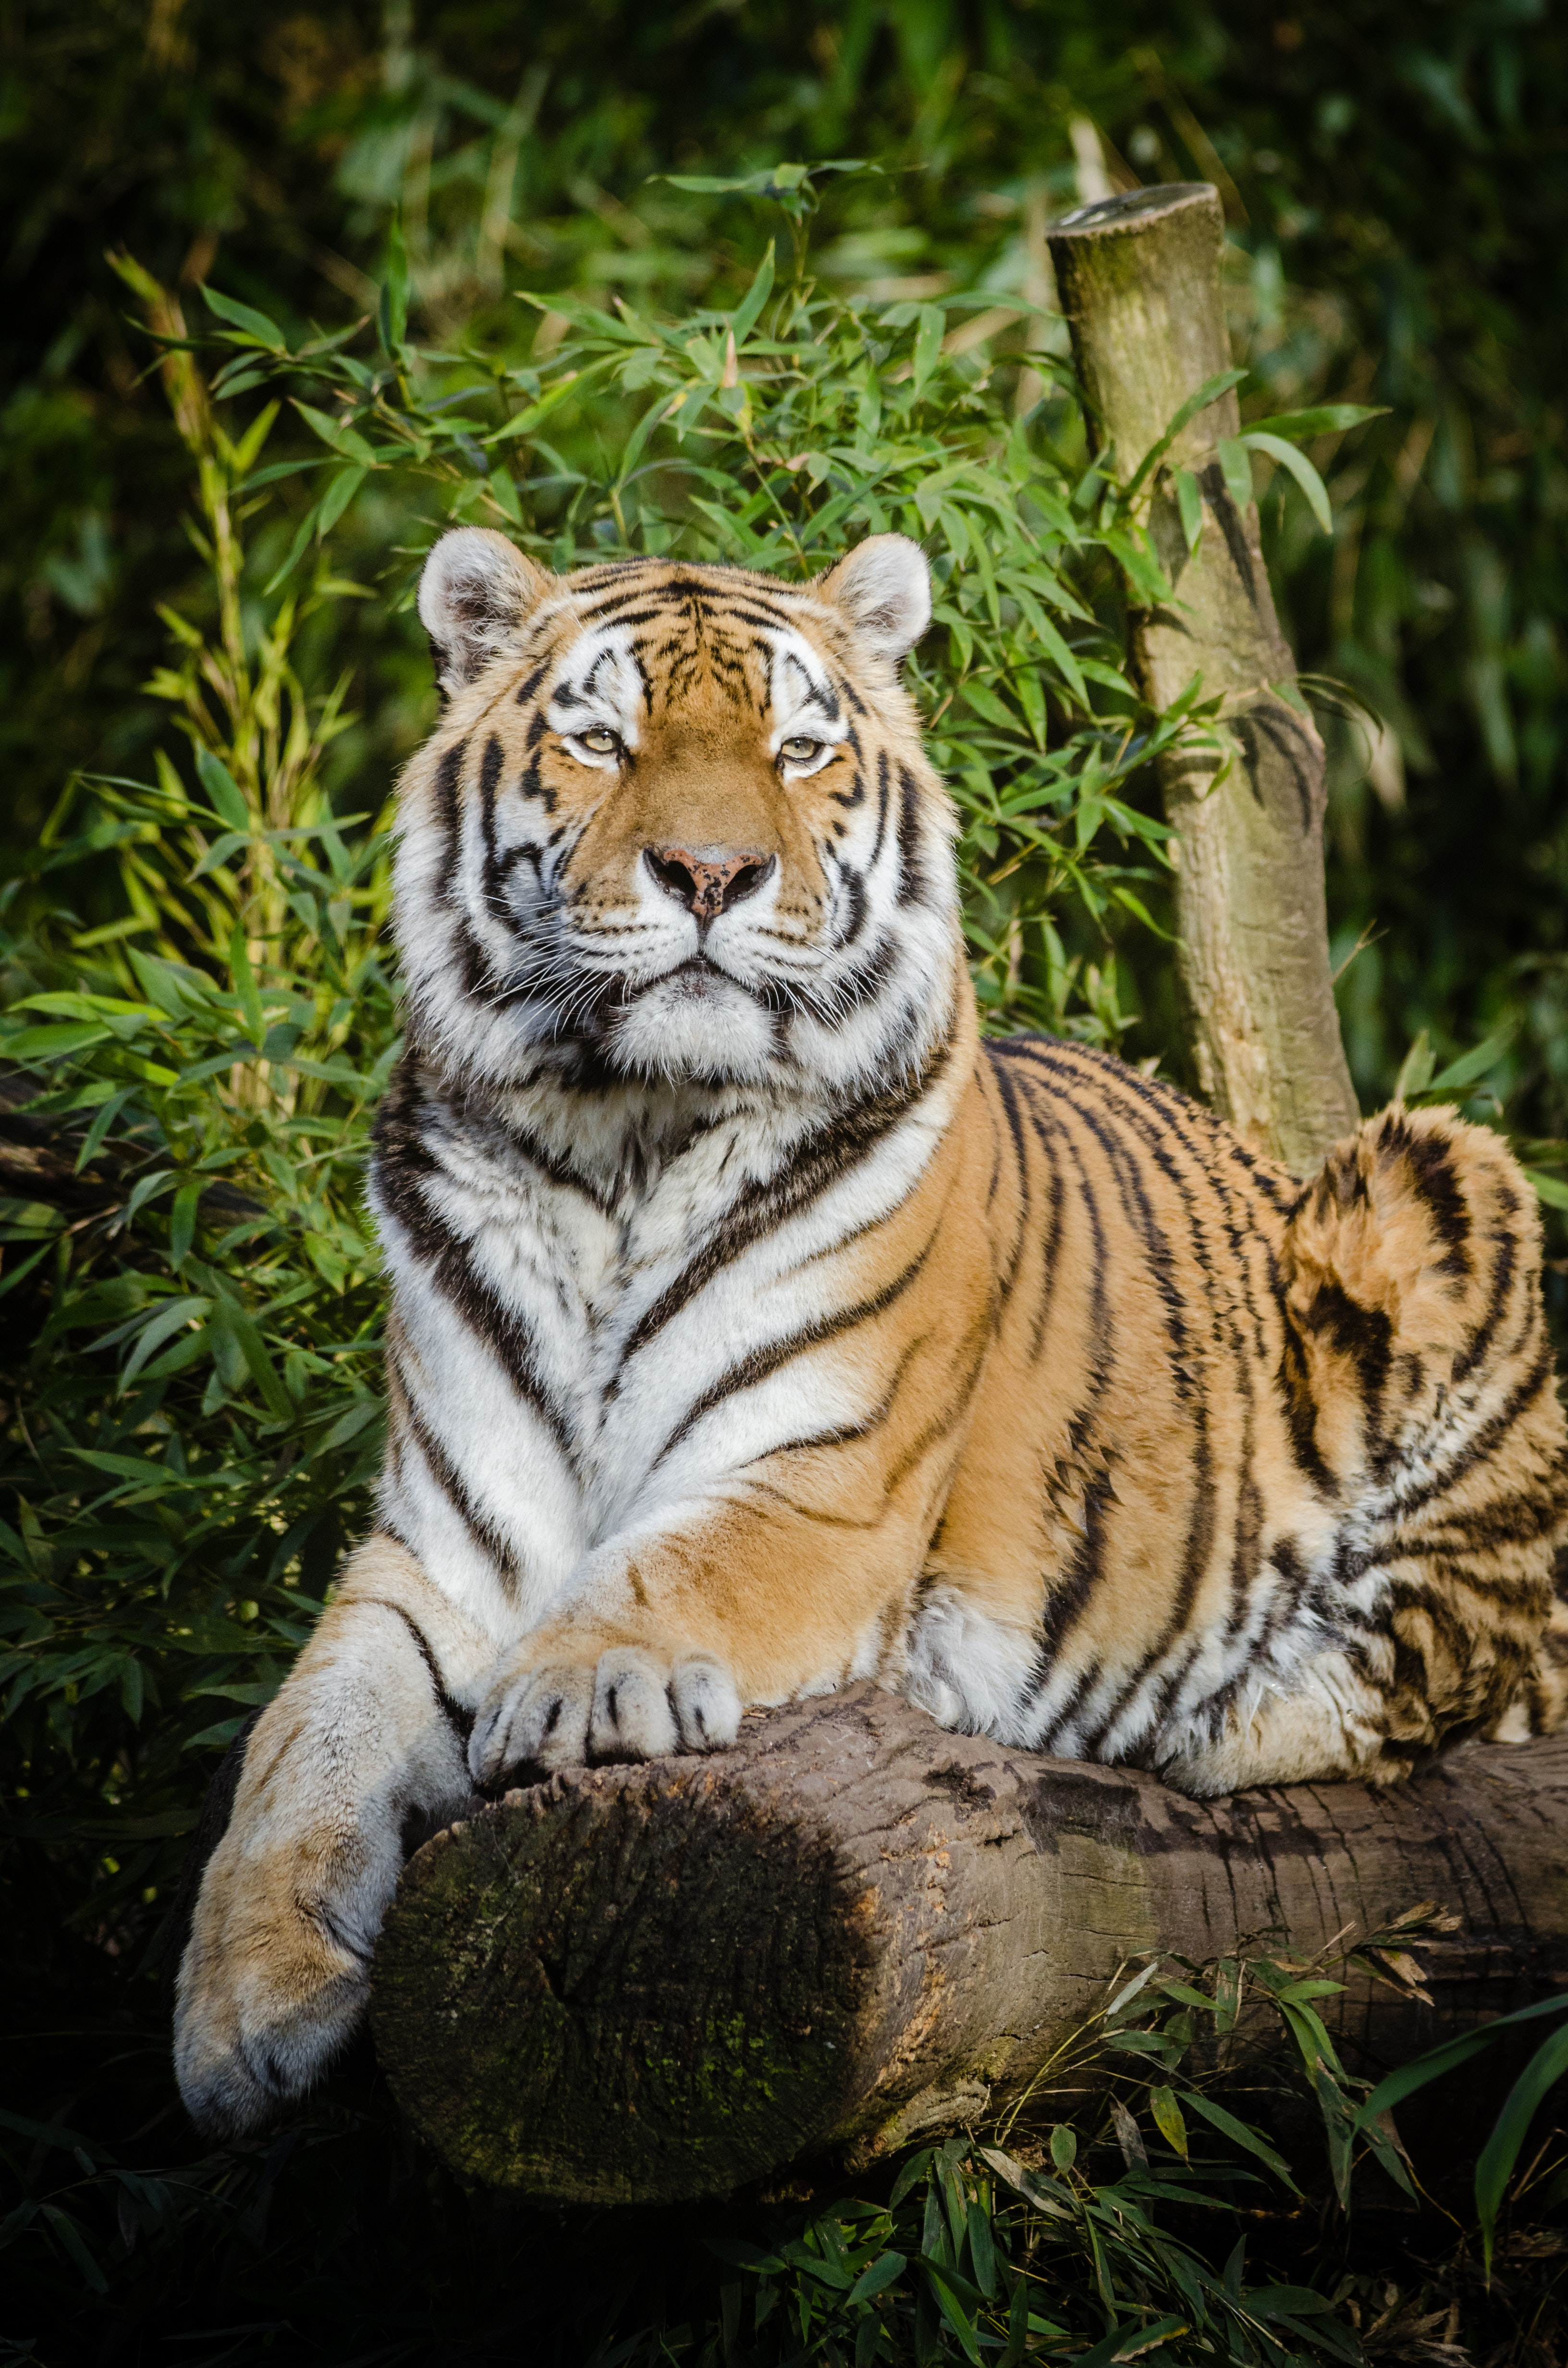tiger: (182, 415, 1521, 2121)
